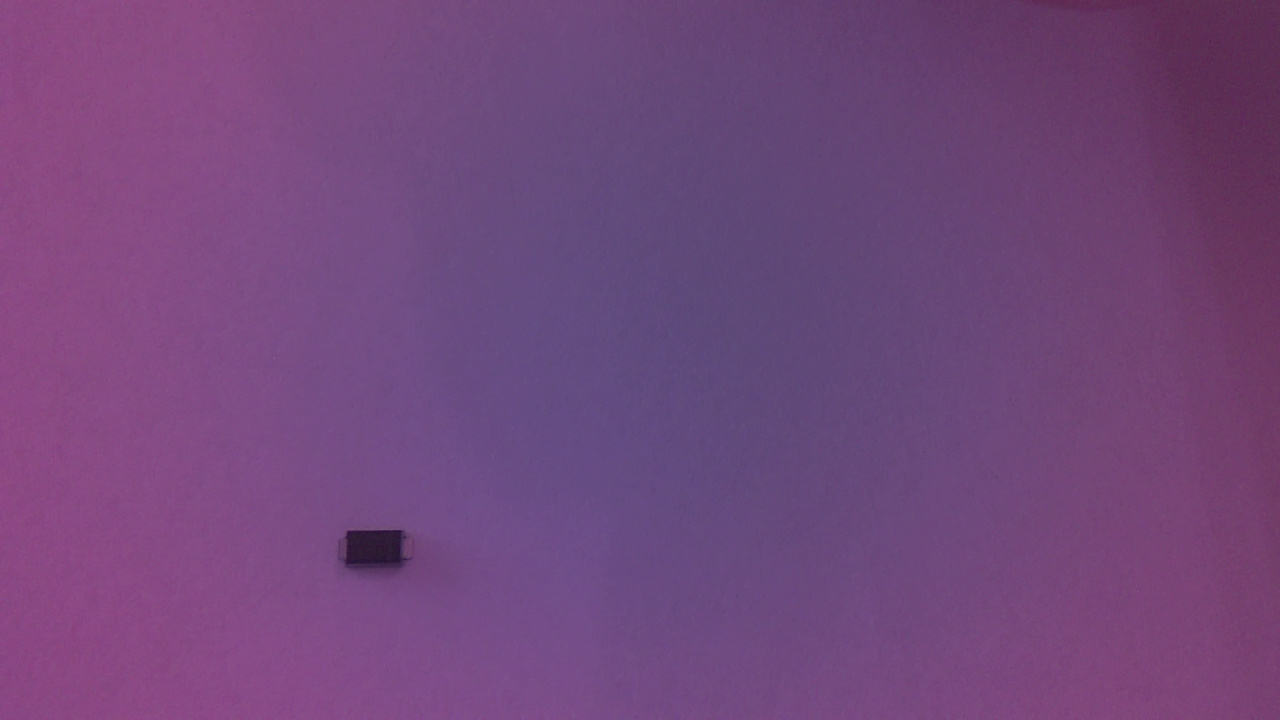Diode: (341, 526, 430, 579)
